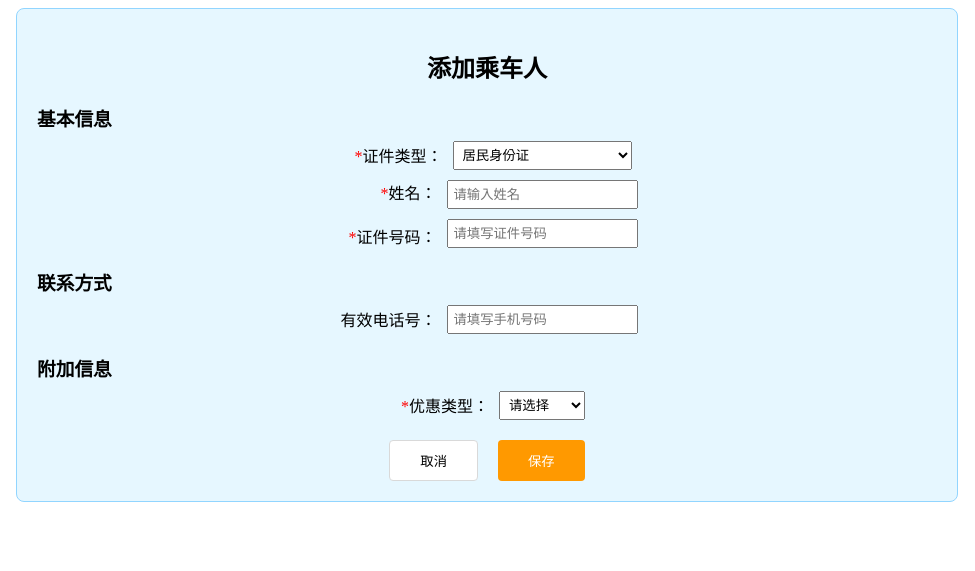
Passenger Requirements 05_PersonalCenter › 5.1.10: Add Page Layout and Validation
expect the field with placeholder "请输入姓名" is shown: met, box [446,180,638,209]
expect the field with placeholder "请填写证件号码" is shown: met, box [446,219,638,248]
Step 1. Click the button "保存" → [541, 460], box [498,440,585,481]
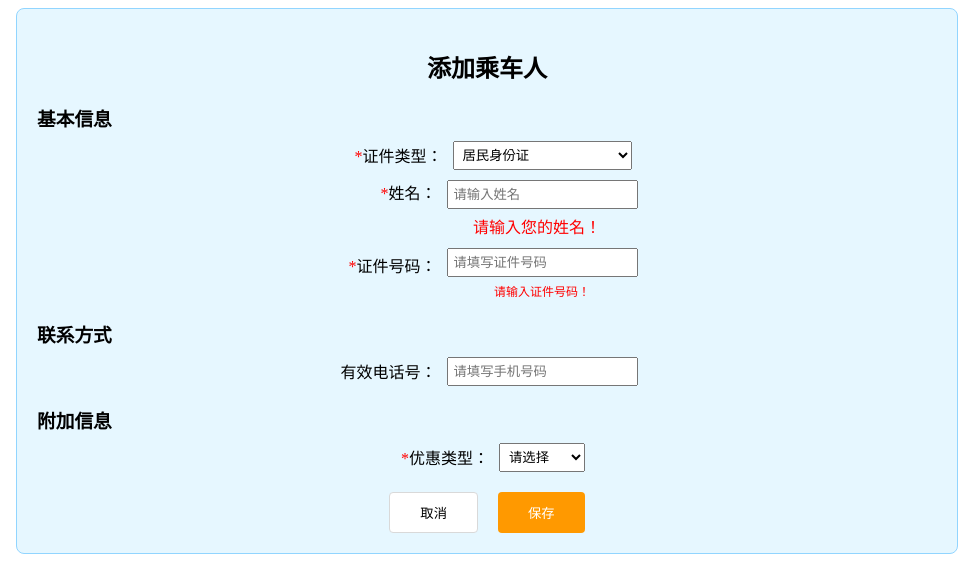
expect the text "请输入您的姓名！" is shown: met, box [473,219,601,236]
expect the text "请输入证件号码！" is shown: met, box [494,285,590,299]
Step 2. Type "123" into the field with placeholder "请填写证件号码" → [542, 262], box [446,248,638,277]
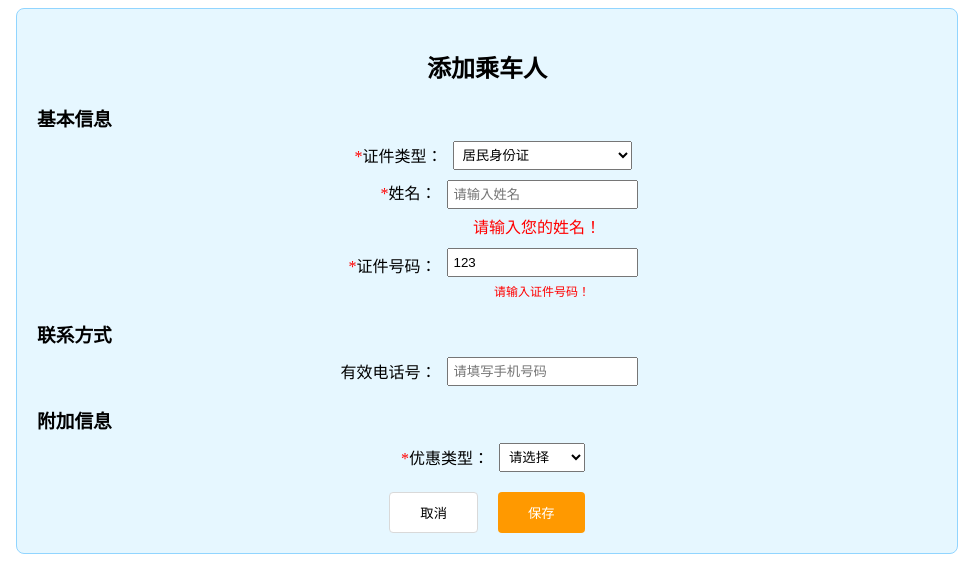
Step 3. Click the button "保存" → [541, 512], box [498,492,585,533]
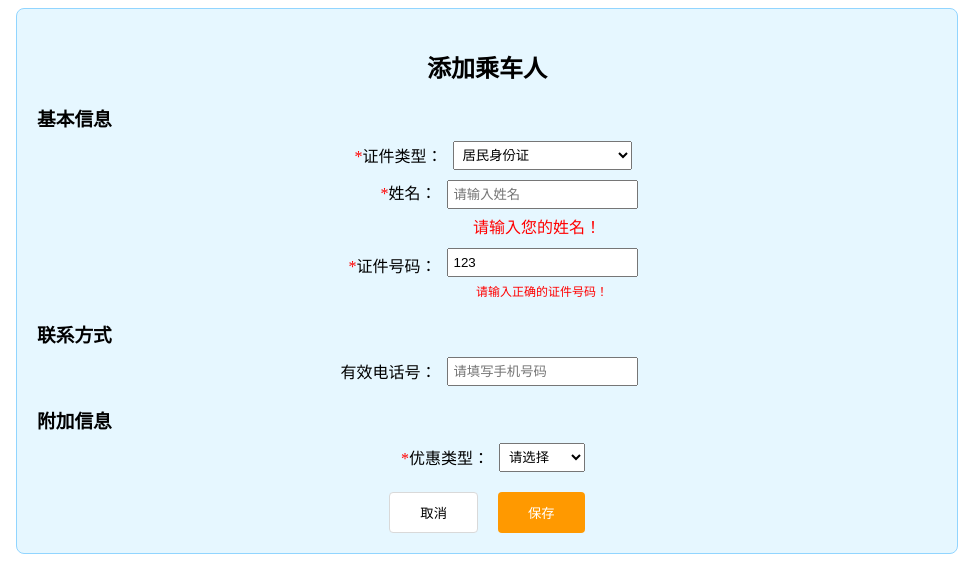
expect the text "请输入正确的证件号码！" is shown: met, box [476,285,608,299]
